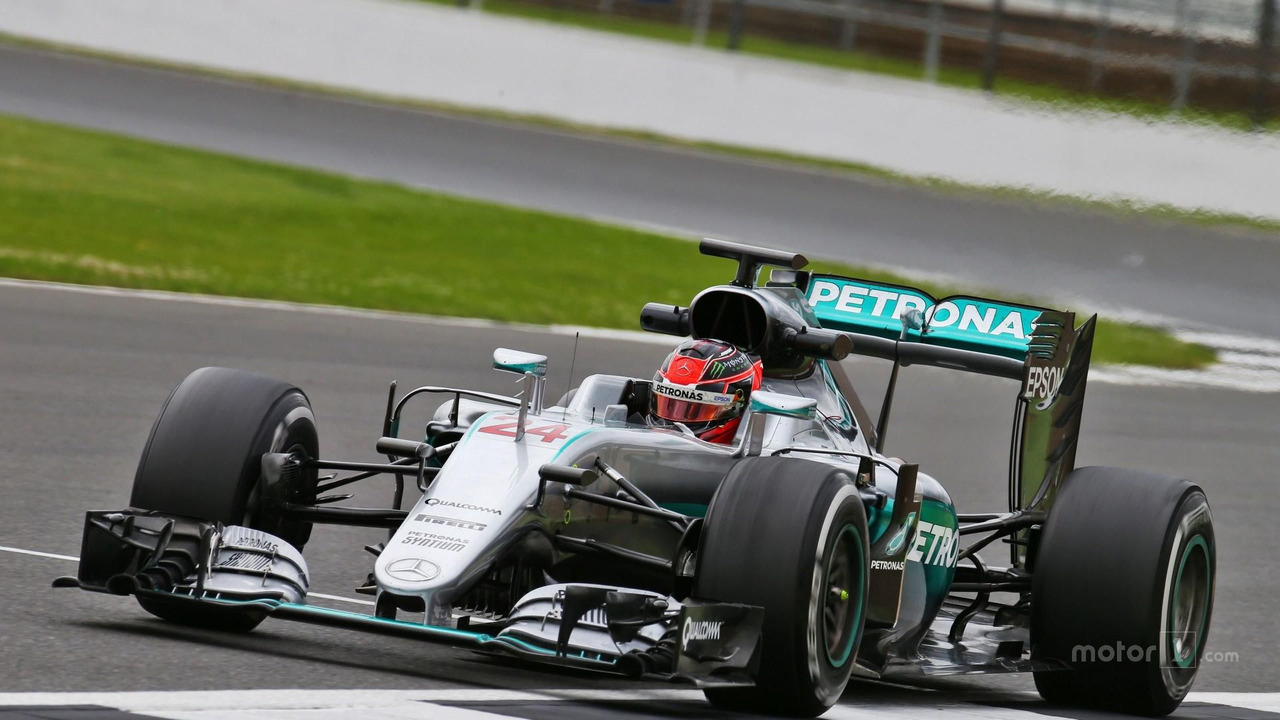F1 Car: (74, 229, 1223, 720)
